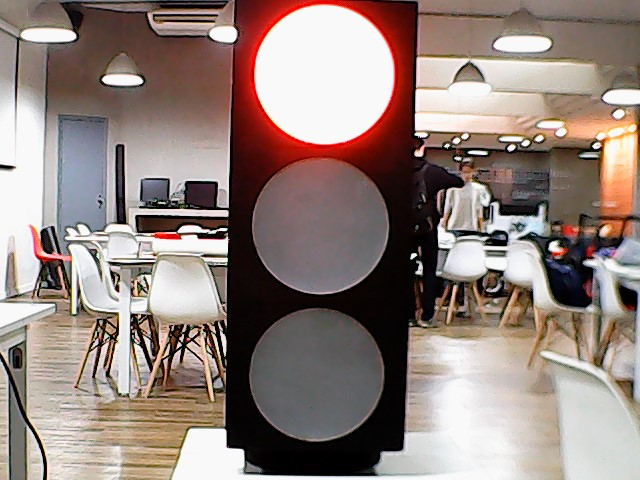vermelho: (223, 1, 423, 478)
